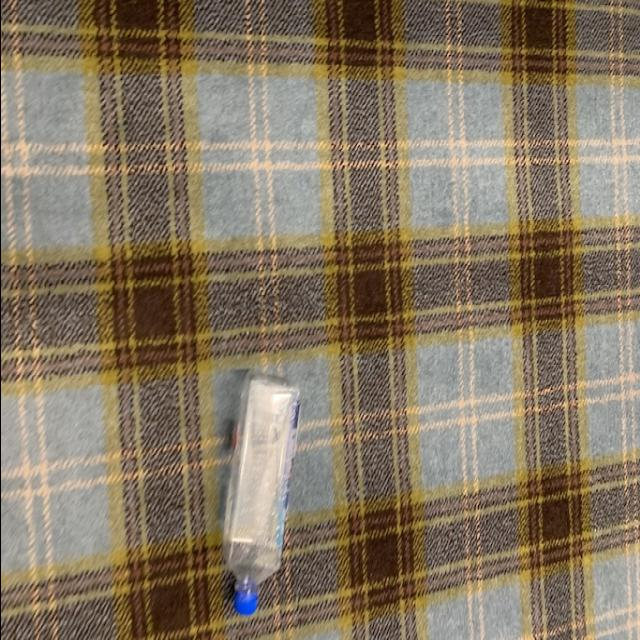PET: (216, 370, 298, 625)
